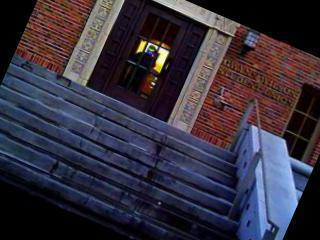Escaleras: (0, 40, 286, 240)
